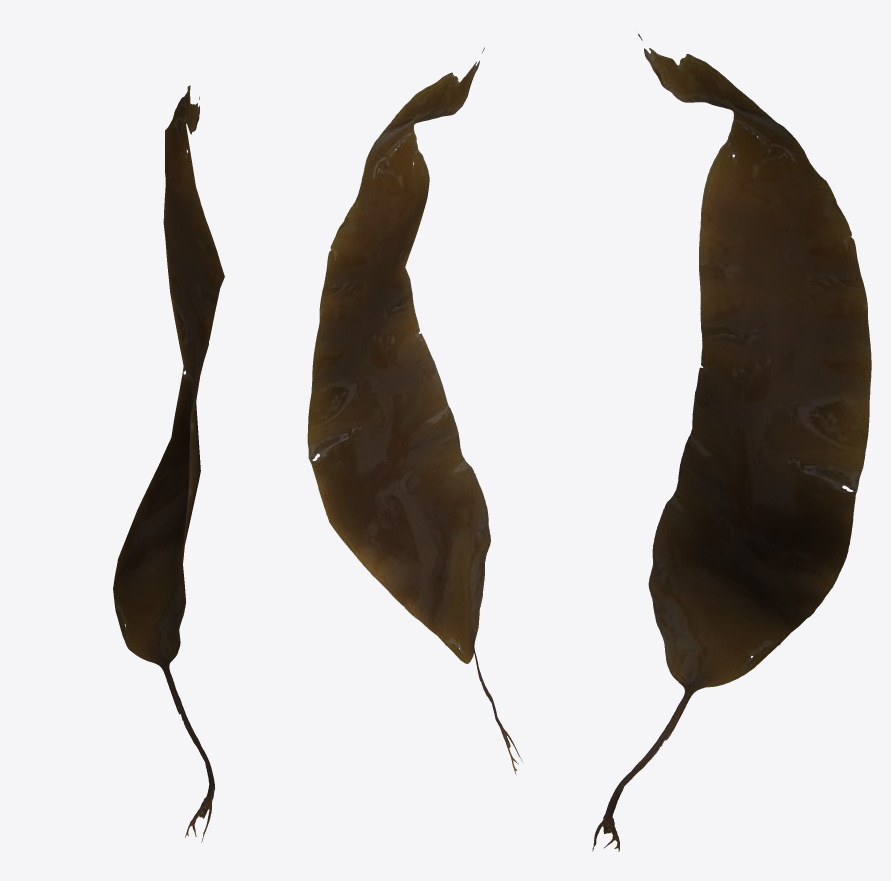
Rendered from algue_05.fbx.
3 renders of one model, left to right at view 1: azimuth 30°, elevation 25°; view 2: azimuth 150°, elevation 25°; view 3: azimuth 270°, elevation 25°, orthographic. The views are drawn at different scales.
Parts seen in each view (by area): view 1: Gross-morphology-of-Laminaria-digitata-A-and-B-and-Hedophyl.; view 2: Gross-morphology-of-Laminaria-digitata-A-and-B-and-Hedophyl.; view 3: Gross-morphology-of-Laminaria-digitata-A-and-B-and-Hedophyl..
Part boxes in pixels (left/top/right/bottom): Gross-morphology-of-Laminaria-digitata-A-and-B-and-Hedophyl.: left=113, top=85, right=224, bottom=842; Gross-morphology-of-Laminaria-digitata-A-and-B-and-Hedophyl.: left=307, top=47, right=522, bottom=774; Gross-morphology-of-Laminaria-digitata-A-and-B-and-Hedophyl.: left=592, top=34, right=871, bottom=851.
Size of the model in its own units: 23.95 by 104 by 33.5.
